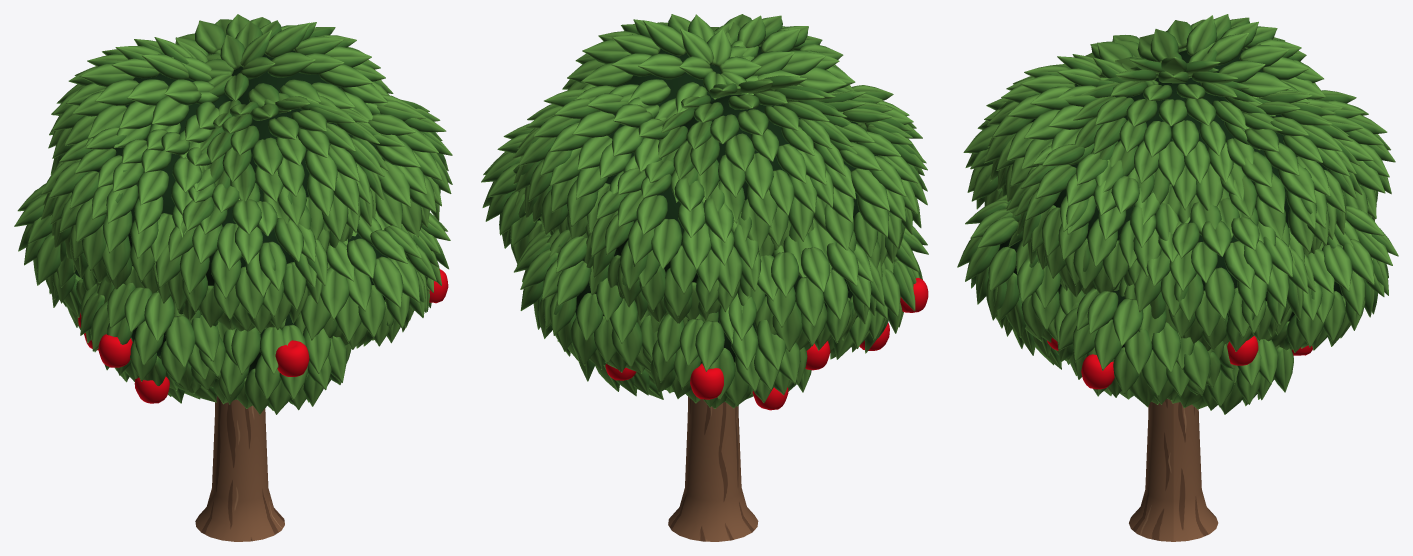
The model's file is tosstree.glb.
3 views of the same model, side by side, from view 1: azimuth 30°, elevation 25°; view 2: azimuth 150°, elevation 25°; view 3: azimuth 270°, elevation 25° (orthographic).
Visible parts, largest first — view 1: tosstree; view 2: tosstree; view 3: tosstree.
Part boxes in pixels (x1,y1,x2,y2): tosstree: [14, 14, 452, 541]; tosstree: [481, 14, 928, 541]; tosstree: [957, 14, 1398, 541].
Size of the model in its own units: 22.61 by 27.25 by 22.65.
4 materials, 1 textured.
